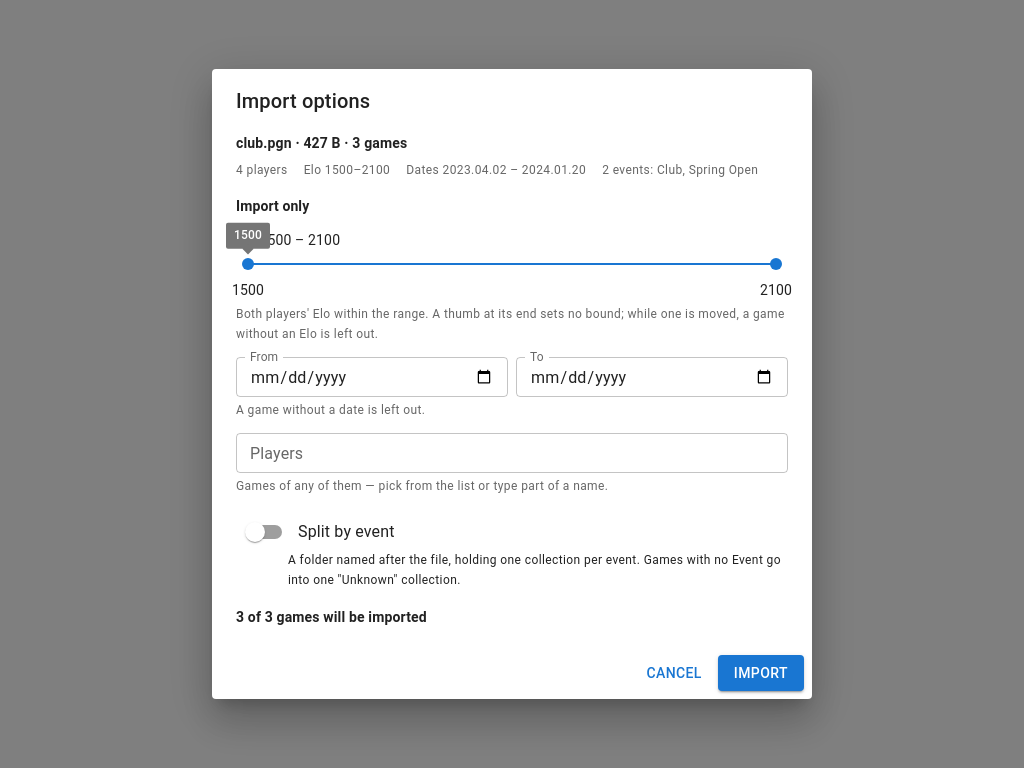
Test: CollectionImportDialog (CTA-113) › narrows by the Elo slider from the keyboard, and turns Import off when nothing is left
The image size is (1024, 768).
Type keys "{Shift>}{ArrowRight}{/Shift}"
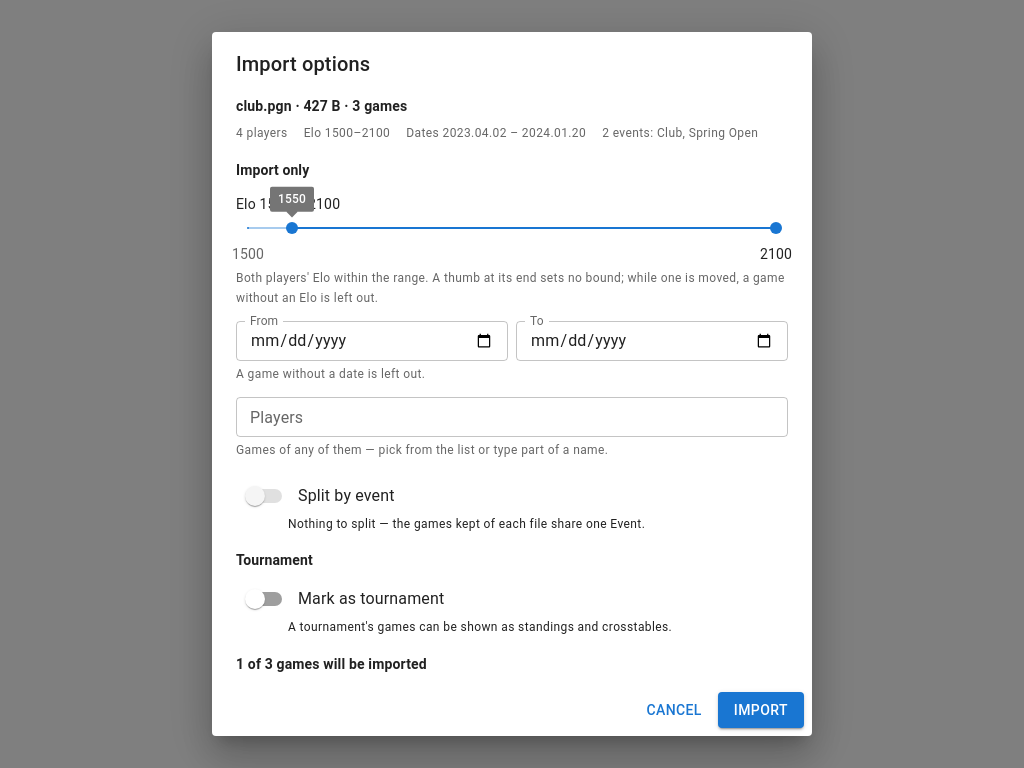
Now the text with test id "import-elo-value" reads "1550 – 2100", box [259,196,340,212]
Now the message with test id "import-count" shows "1 of 3", box [236,656,427,672]
Type "2030-01-01" into the date field with test id "import-from" at (372, 341), box [236,321,508,361]
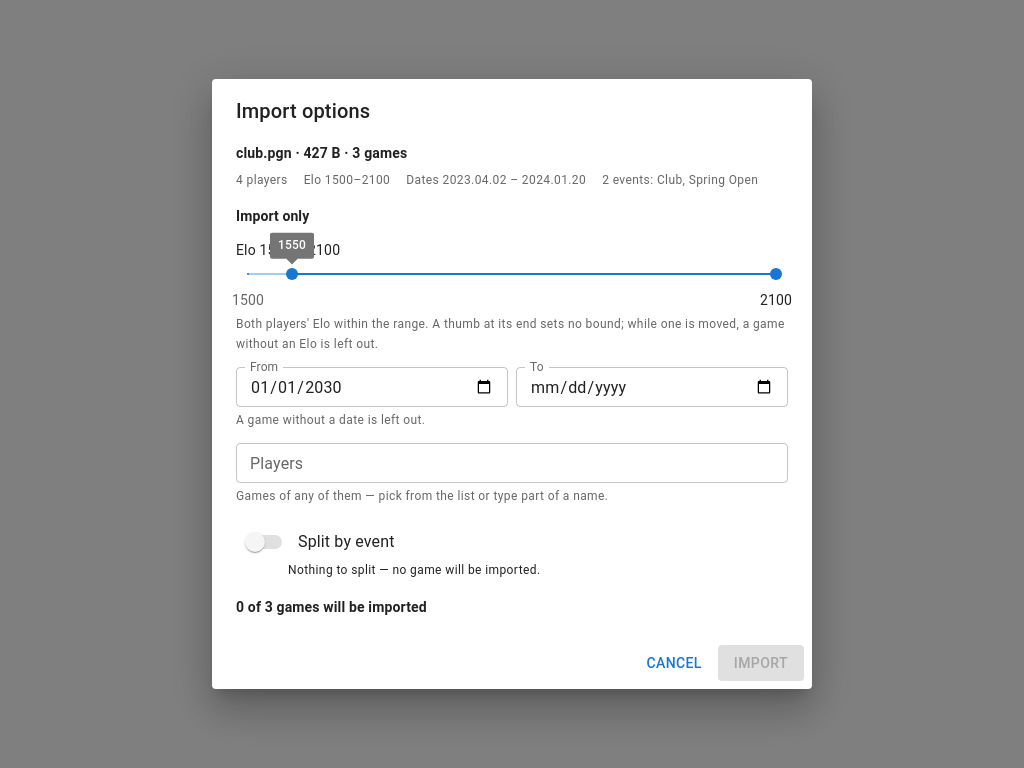
Now the button with test id "import-confirm" is disabled, box [718,645,804,682]
